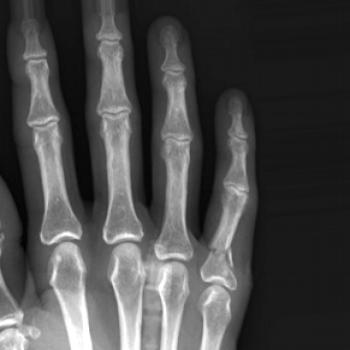Fracture: (202, 239, 238, 271)
